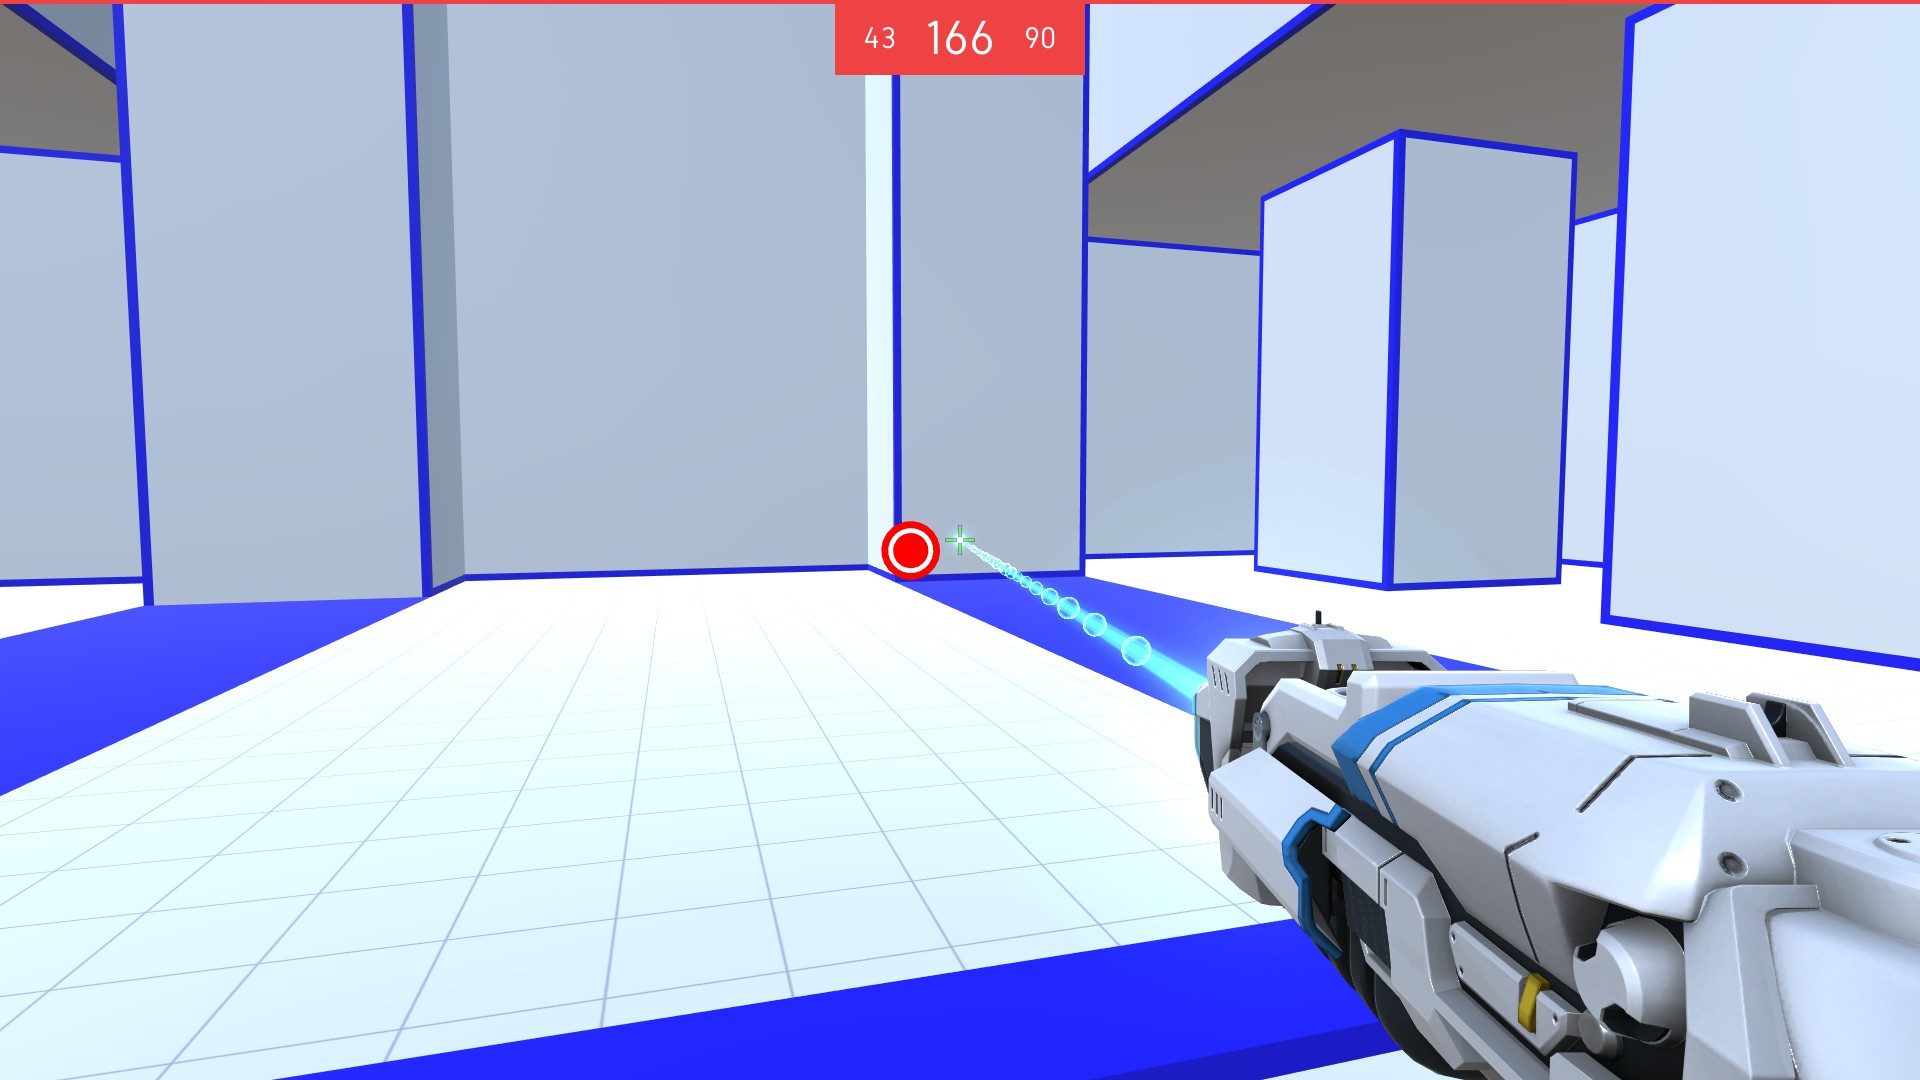target: (880, 520, 945, 585)
